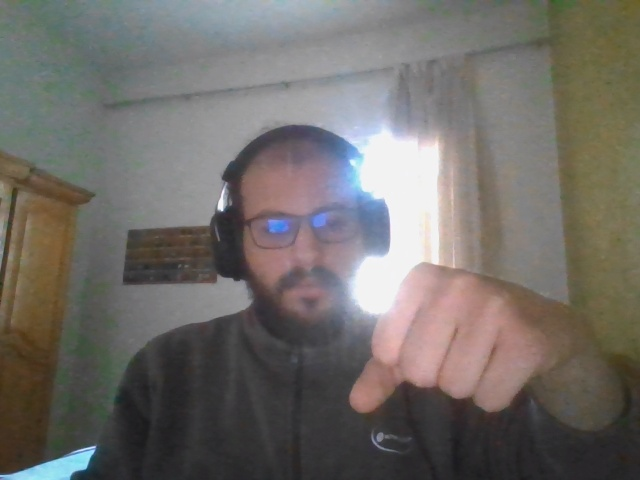Yes: (357, 264, 540, 412)
